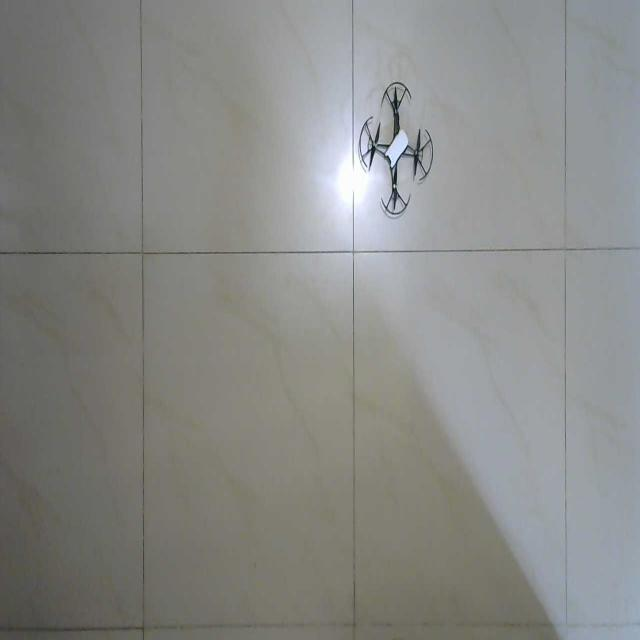drone: (359, 80, 434, 217)
